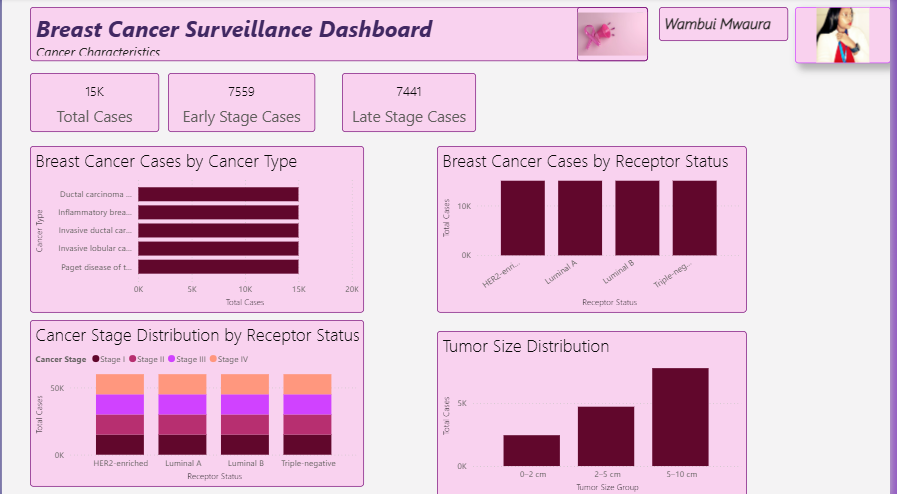

What the dashboard file says about the page in this screenshot:
{"tool":"powerbi","page":{"name":"Cancer Characteristics","canvas":[1280,720],"ordinal":2},"visuals":[{"type":"card","fields":{"Values":["Date Table.Total Cases"]},"box":[40.3,108,185.8,85],"z":0},{"type":"card","fields":{"Values":["Date Table.Early Stage Cases"]},"box":[239,108,211.7,85],"z":1000},{"type":"card","fields":{"Values":["Date Table.Late Stage Cases"]},"box":[489.6,108,193,85],"z":2000},{"type":"clusteredBarChart","title":"Breast Cancer Cases by Cancer Type","fields":{"Category":["Dim_Clinical.Cancer Type"],"Y":["Date Table.Total Cases"]},"box":[41,213.7,481.5,240],"z":3000},{"type":"clusteredColumnChart","title":"Breast Cancer Cases by Receptor Status","fields":{"Category":["Dim_Clinical.Receptor Status"],"Y":["Date Table.Total Cases"]},"box":[626.4,213.1,446.4,240.5],"z":4000},{"type":"columnChart","title":"Cancer Stage Distribution by Receptor Status","fields":{"Category":["Dim_Clinical.Receptor Status"],"Y":["Date Table.Total Cases"],"Series":["Dim_Clinical.Cancer Stage"]},"box":[41,464,481,240],"z":5000},{"type":"columnChart","title":"Tumor Size Distribution","fields":{"Y":["Date Table.Total Cases"],"Category":["Fact_BreastCancer.Tumor Size Group"]},"box":[626.4,479.5,446.4,240.5],"z":6000},{"type":"textbox","box":[40.3,13,889.9,77.8],"z":6001},{"type":"image","box":[828,13,102.2,77.8],"z":6002},{"type":"textbox","box":[946.1,13,185.8,49],"z":6003},{"type":"image","box":[1141.9,13,138.2,80.6],"z":6004}]}

Visuals, with their boxes in screenshot pixels (x1, y1, x2, y2), scaled from the page's 1280x720 canvas onto the 897x494 screenshot:
card - Date Table.Total Cases: (28, 74, 158, 132)
card - Date Table.Early Stage Cases: (167, 74, 316, 132)
card - Date Table.Late Stage Cases: (343, 74, 478, 132)
"Breast Cancer Cases by Cancer Type" clusteredBarChart: (29, 147, 366, 311)
"Breast Cancer Cases by Receptor Status" clusteredColumnChart: (439, 146, 752, 311)
"Cancer Stage Distribution by Receptor Status" columnChart: (29, 318, 366, 483)
"Tumor Size Distribution" columnChart: (439, 329, 752, 493)
textbox: (28, 9, 652, 62)
image: (580, 9, 652, 62)
textbox: (663, 9, 793, 43)
image: (800, 9, 896, 64)
